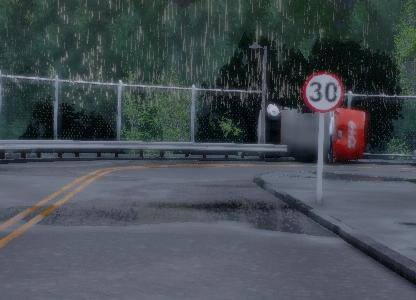Speed_30: (301, 68, 346, 114)
